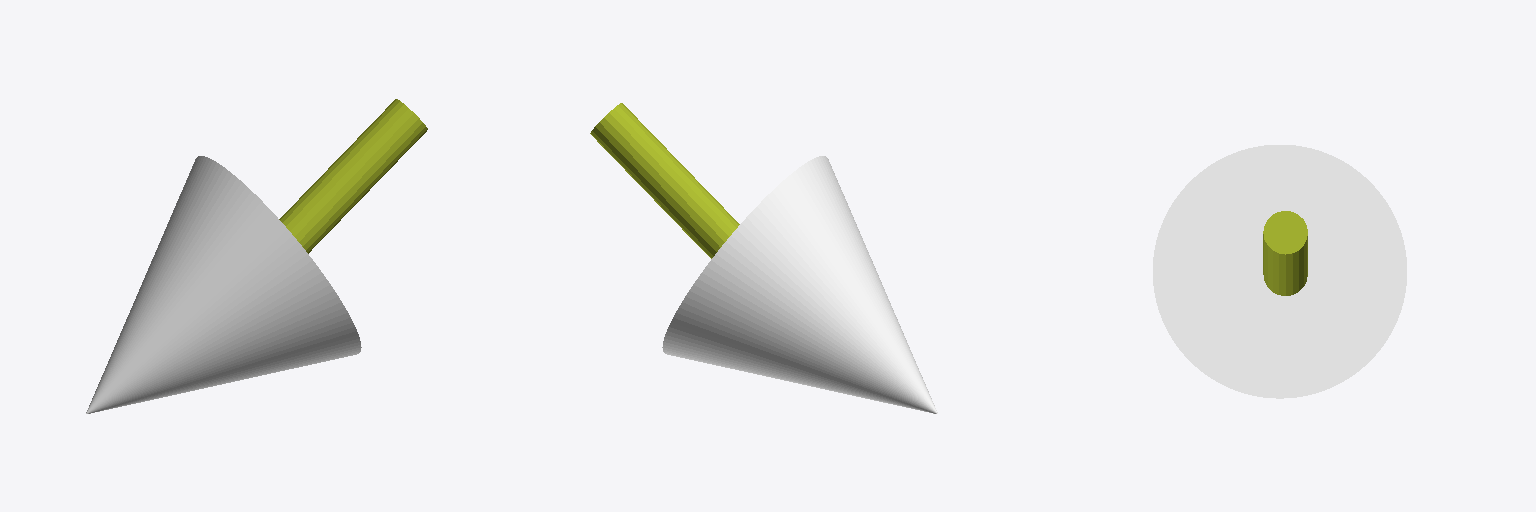
Rendered from right_arm.obj.
3 renders of one model, left to right at view 1: azimuth 30°, elevation 25°; view 2: azimuth 150°, elevation 25°; view 3: azimuth 270°, elevation 25°, orthographic.
Parts seen in each view (by area): view 1: right_arm1:right_upper2, right_arm1:right_upper1; view 2: right_arm1:right_upper2, right_arm1:right_upper1; view 3: right_arm1:right_upper2, right_arm1:right_upper1.
Part boxes in pixels (x1,y1,x2,y2): right_arm1:right_upper2: (86,156,361,413); right_arm1:right_upper1: (279,99,427,253); right_arm1:right_upper2: (662,156,937,413); right_arm1:right_upper1: (590,103,739,258); right_arm1:right_upper2: (1153,145,1406,398); right_arm1:right_upper1: (1263,211,1307,295).
Size of the model in its own units: 3.09 by 2.03 by 2.